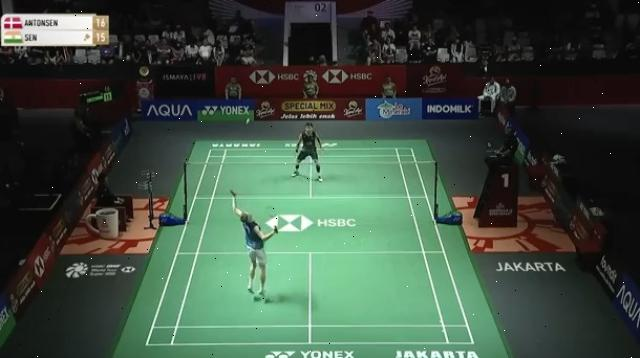Shuttlecock: (242, 115, 254, 127)
